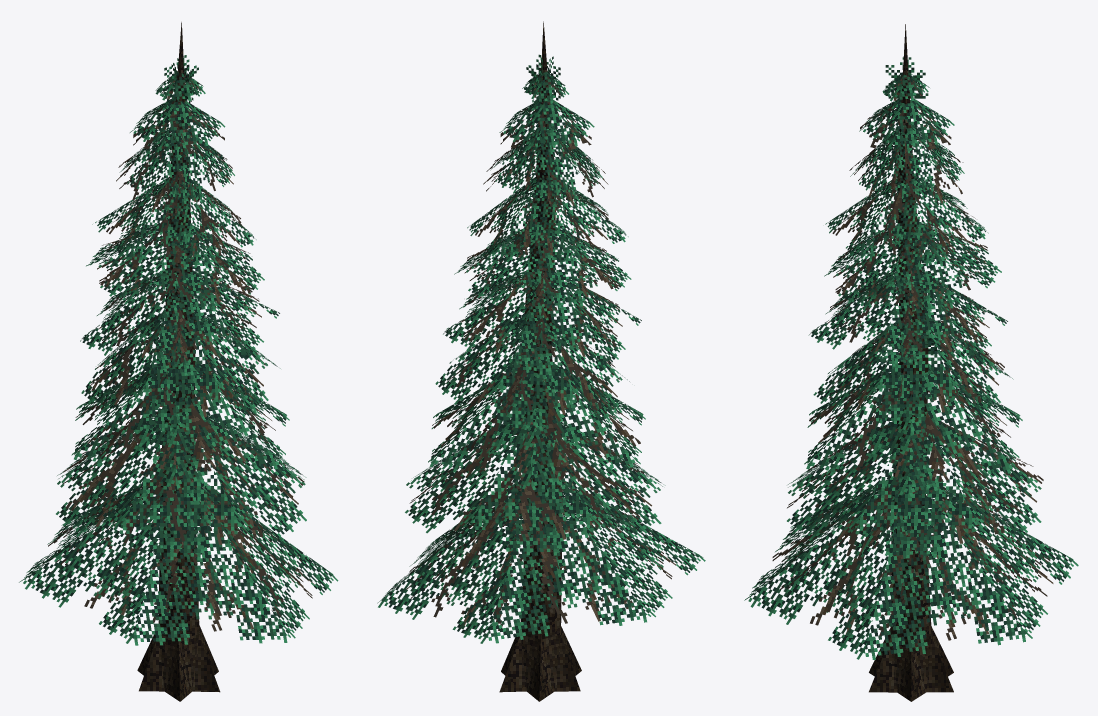
The model's file is pine_tree.gltf.
3 renders of one model, left to right at view 1: azimuth 30°, elevation 25°; view 2: azimuth 150°, elevation 25°; view 3: azimuth 270°, elevation 25°, orthographic.
Parts seen in each view (by area): view 1: Leaves, FullTree, Branches, Trunk; view 2: Leaves, FullTree, Branches, Trunk; view 3: Leaves, FullTree, Branches, Trunk.
Boxes of the visible parts, <box> form: Leaves: <box>19,55,338,645</box>; FullTree: <box>23,77,330,643</box>; Branches: <box>42,74,313,631</box>; Trunk: <box>137,22,220,701</box>; Leaves: <box>377,54,703,643</box>; FullTree: <box>379,56,705,643</box>; Branches: <box>406,75,675,630</box>; Trunk: <box>499,21,581,701</box>; Leaves: <box>745,57,1078,659</box>; FullTree: <box>744,99,1066,642</box>; Branches: <box>770,75,1053,596</box>; Trunk: <box>869,24,953,701</box>.
Bounding box in the file's own units: 7.36 × 16 × 7.54.
Materials: 2 (2 with a texture image).
